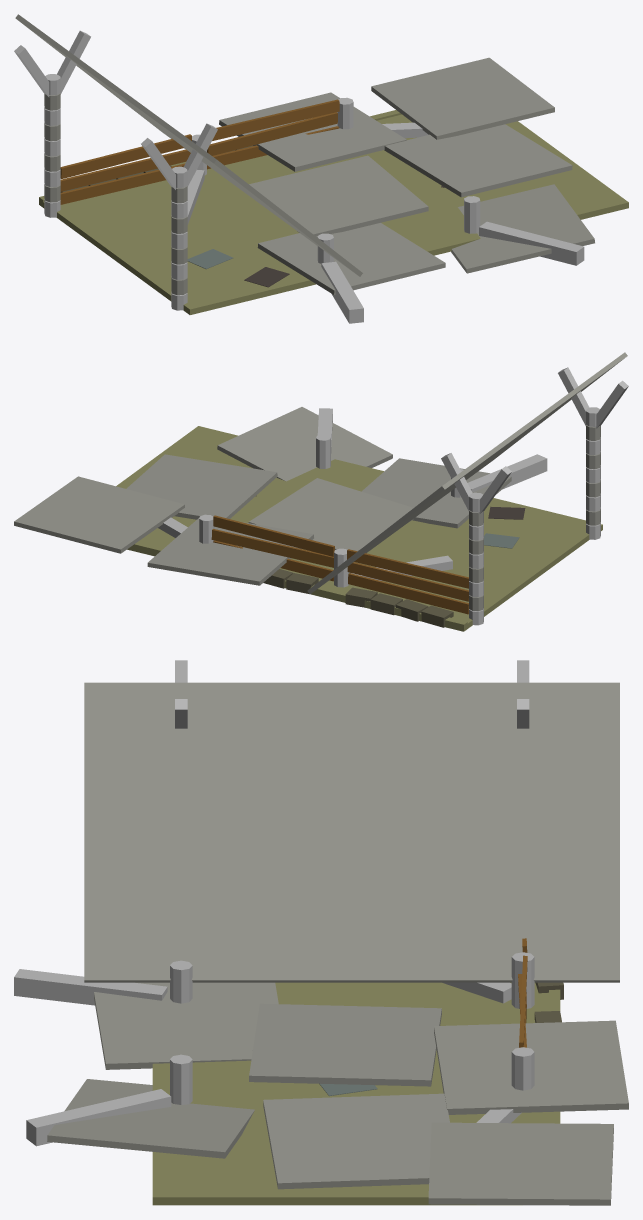
The model's file is SM_MarquesinaBus_v2_Barricada_e2_MuyDanado_LOD0.fbx.
The picture shows the model from 3 angles, top to bottom: view 1: azimuth 30°, elevation 25°; view 2: azimuth 150°, elevation 25°; view 3: azimuth 270°, elevation 25°; orthographic projection. The views are drawn at different scales.
Parts seen in each view (by area): view 1: SM_marquesina_bus_v10_LOD0; view 2: SM_marquesina_bus_v10_LOD0; view 3: SM_marquesina_bus_v10_LOD0.
Part boxes in pixels (x1,y1,x2,y2): SM_marquesina_bus_v10_LOD0: [14, 14, 628, 323]; SM_marquesina_bus_v10_LOD0: [14, 352, 628, 631]; SM_marquesina_bus_v10_LOD0: [14, 660, 628, 1205].
Bounding box in the file's own units: 13.82 × 4.63 × 10.79.
